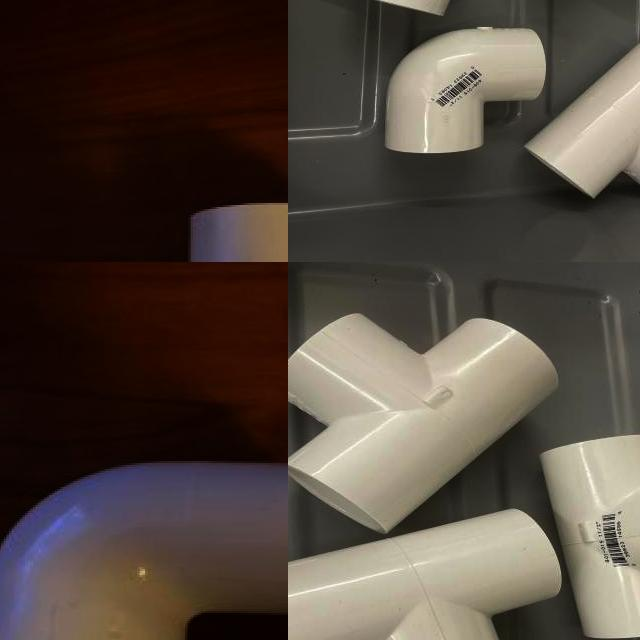L Joint: (0, 462, 288, 640), (382, 27, 548, 158)
T Joint: (288, 314, 558, 533), (288, 509, 563, 640), (539, 435, 640, 640), (523, 44, 640, 200)
